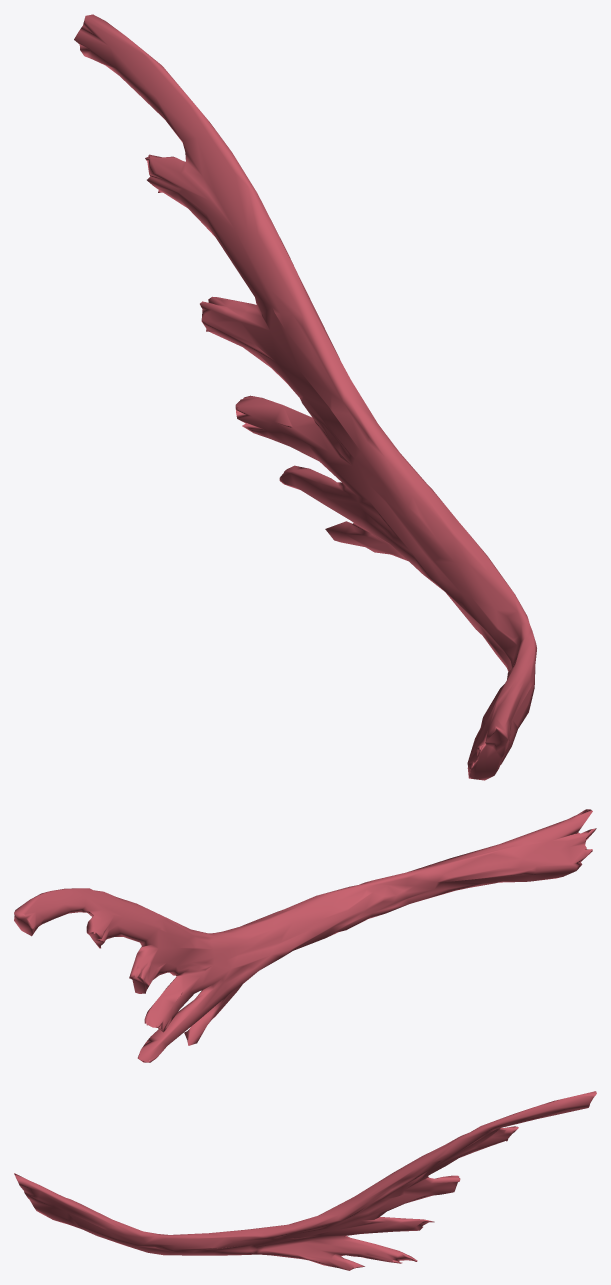
The picture shows the model from 3 angles, top to bottom: view 1: azimuth 30°, elevation 25°; view 2: azimuth 150°, elevation 25°; view 3: azimuth 270°, elevation 25°; orthographic projection. The views are drawn at different scales.
Parts seen in each view (by area): view 1: 右侧头最长肌; view 2: 右侧头最长肌; view 3: 右侧头最长肌.
Boxes of the visible parts, left/top/right/bottom form: 右侧头最长肌: left=74, top=14, right=536, bottom=780; 右侧头最长肌: left=14, top=809, right=596, bottom=1062; 右侧头最长肌: left=14, top=1091, right=596, bottom=1270.
Size of the model in its own units: 0.0519 by 0.0769 by 0.2316.
